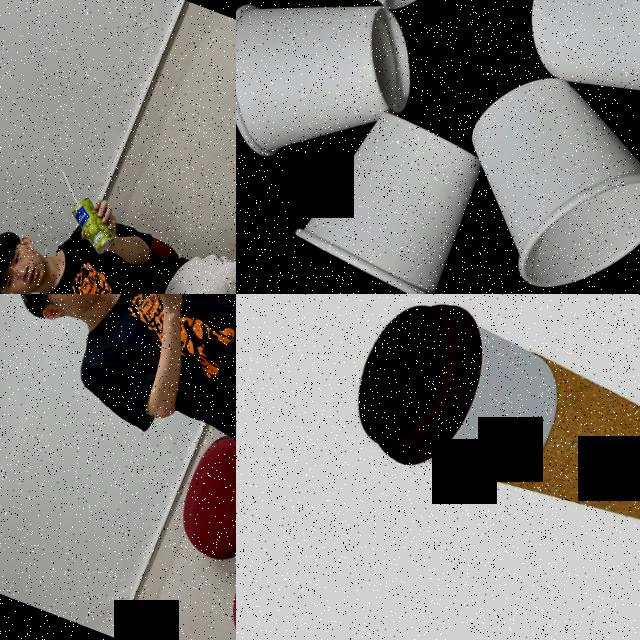can: (61, 192, 127, 258)
cup: (327, 294, 640, 576), (429, 54, 640, 294), (286, 92, 498, 294), (236, 0, 439, 198), (505, 0, 640, 137)
